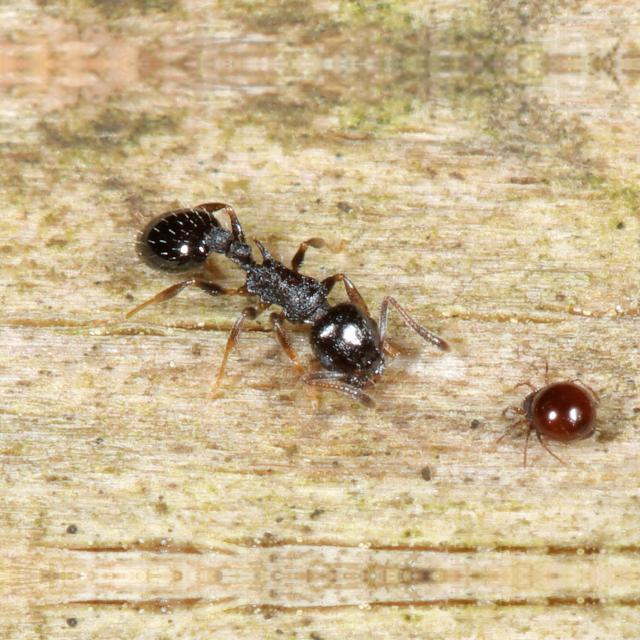Temnothorax: (110, 170, 426, 402)
